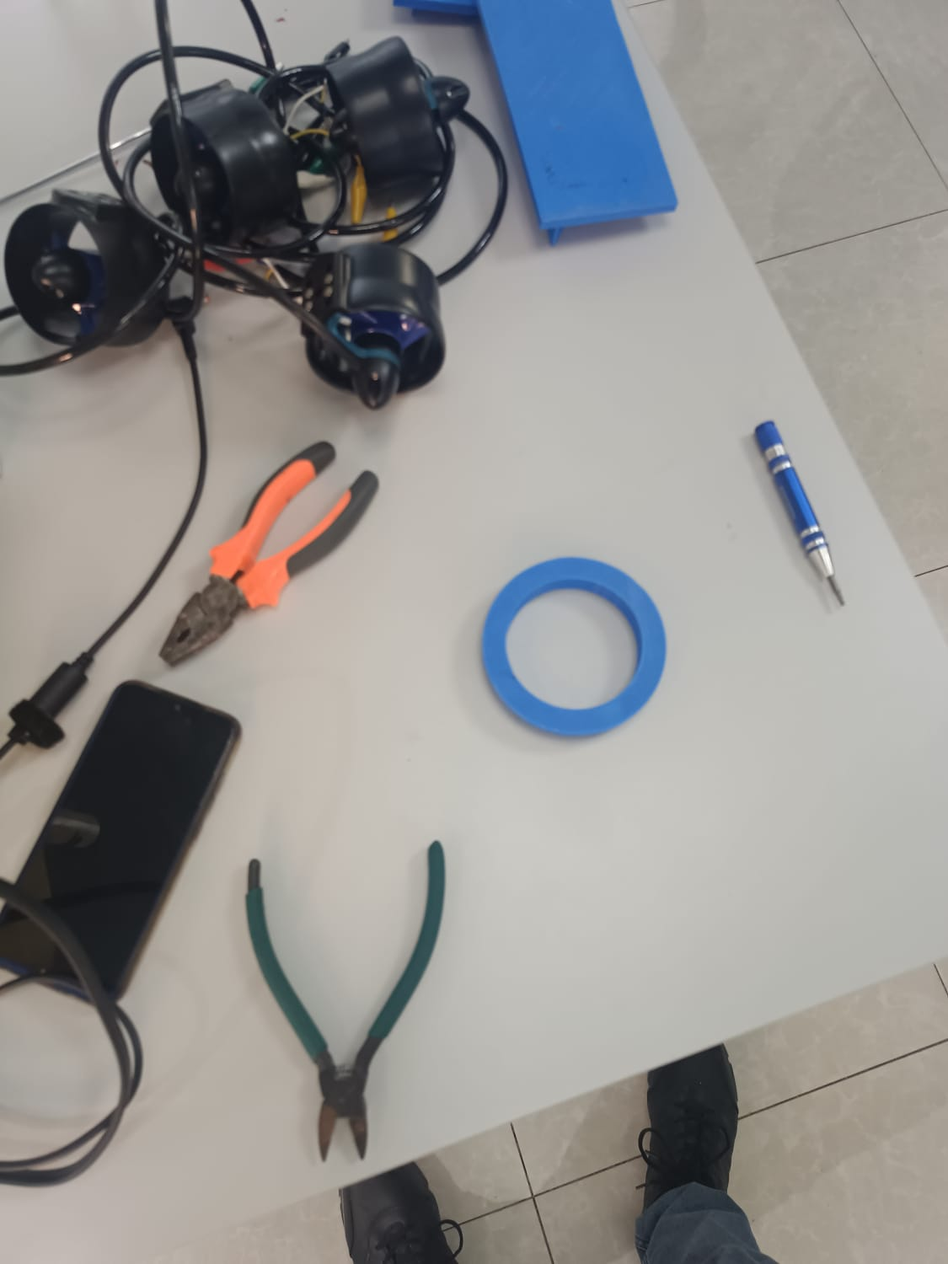Circle: (472, 546, 676, 745)
